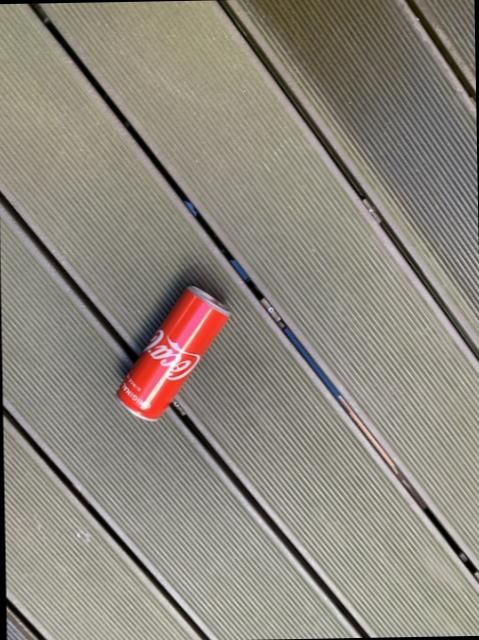metal: (115, 285, 226, 418)
